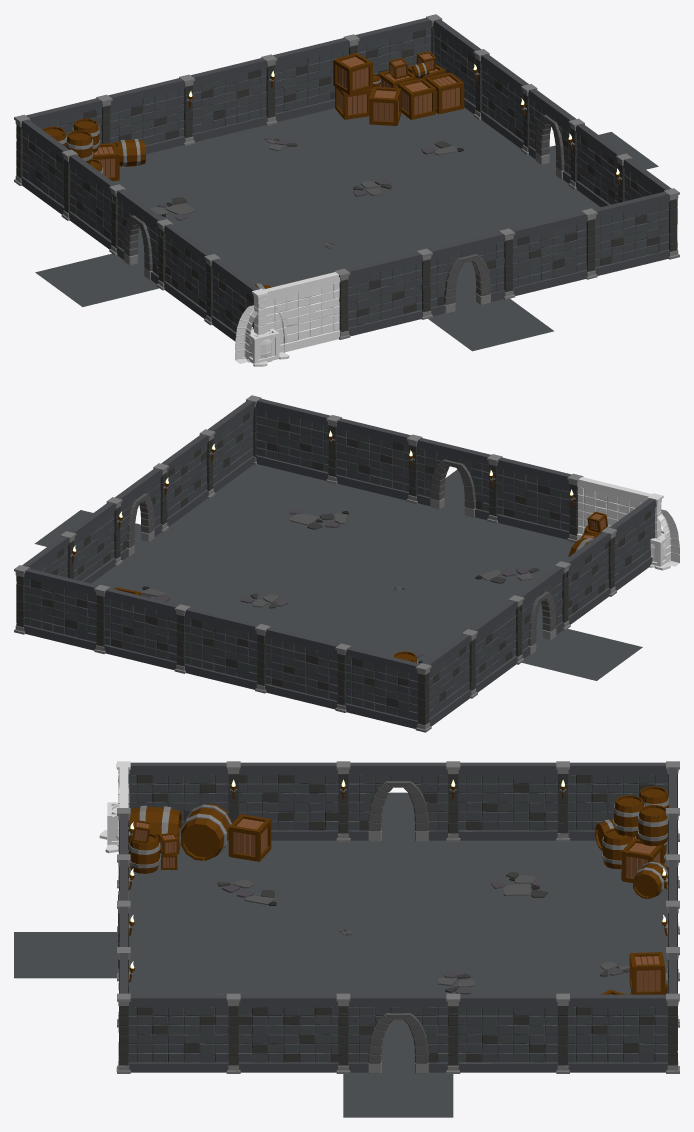
The model's file is uploads_files_2941209_ModularDungeon.gltf.
3 renders of one model, top to bottom at view 1: azimuth 30°, elevation 25°; view 2: azimuth 150°, elevation 25°; view 3: azimuth 270°, elevation 25°, orthographic. The views are drawn at different scales.
Parts seen in each view (by area): view 1: Wall A.001, Wall A.004, Wall A.002, Wall A.010, Doorway.001, Wall A.009, Wall A.011, Wall Mirror, Floor.006, Floor.010, Floor.011, Floor.014 (+41 smaller); view 2: Wall A.009, Wall A.011, Wall A.010, Wall A.008, Wall A.001, Wall A.002, Wall A.012, Doorway.001, Wall A.004, Floor.006, Floor.009, Floor.010 (+30 smaller); view 3: Wall A.003, Wall A.016, Wall A.007, Wall A.014, Doorway.002, Doorway.003, Wall.001, Wall.002, Wall A.013, Floor.006, Floor.009, Floor.010 (+41 smaller).
Part boxes in pixels (x1,y1,x2,y2): Wall A.001: (334,252,422,339); Wall A.004: (593,188,679,275); Wall A.002: (511,208,597,295); Wall A.010: (179,58,267,145); Doorway.001: (416,228,515,319); Wall A.009: (261,37,349,125); Wall A.011: (96,78,184,153); Wall Mirror: (265,274,340,352); Floor.006: (200,212,328,266); Floor.010: (282,194,411,245); Floor.011: (235,157,355,211); Floor.014: (367,172,493,226); Wall A.009: (104,588,190,673); Wall A.011: (264,627,351,712); Wall A.010: (184,607,270,693); Wall A.008: (23,568,110,654); Wall A.001: (496,457,583,542); Wall A.002: (326,415,410,500); Wall A.012: (345,647,431,732); Doorway.001: (406,434,502,523); Wall A.004: (246,395,330,480); Floor.006: (356,588,481,641); Floor.009: (322,535,447,588); Floor.010: (280,569,397,622); Wall A.003: (128,993,240,1073); Wall A.016: (568,993,679,1073); Wall A.007: (458,993,569,1073); Wall A.014: (458,761,569,841); Doorway.002: (336,993,460,1073); Doorway.003: (336,761,460,841); Wall.001: (238,994,338,1072); Wall.002: (238,762,338,840); Wall A.013: (128,761,240,841); Floor.006: (343,885,453,931); Floor.009: (233,932,343,978); Floor.010: (343,932,453,978).
Size of the model in its own units: 28 by 3.07 by 24.26.
Materials: 7 (6 with a texture image).
